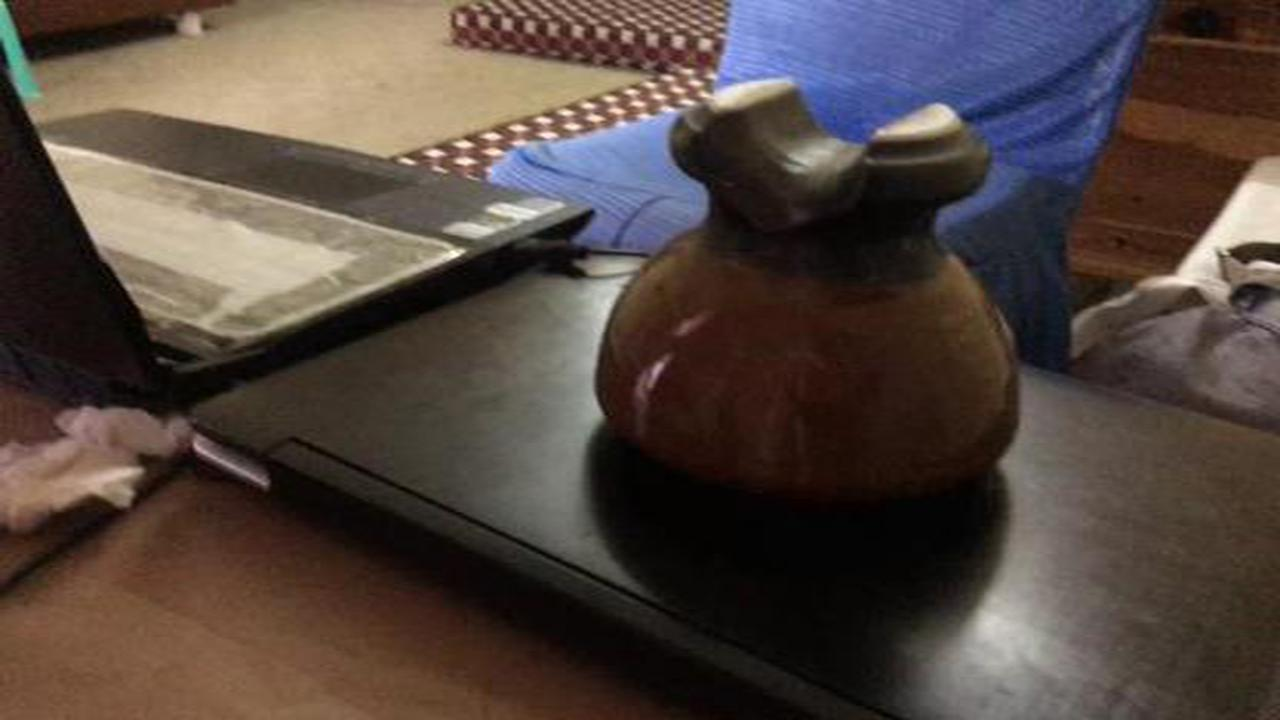insulator_pin: (588, 64, 1047, 525)
